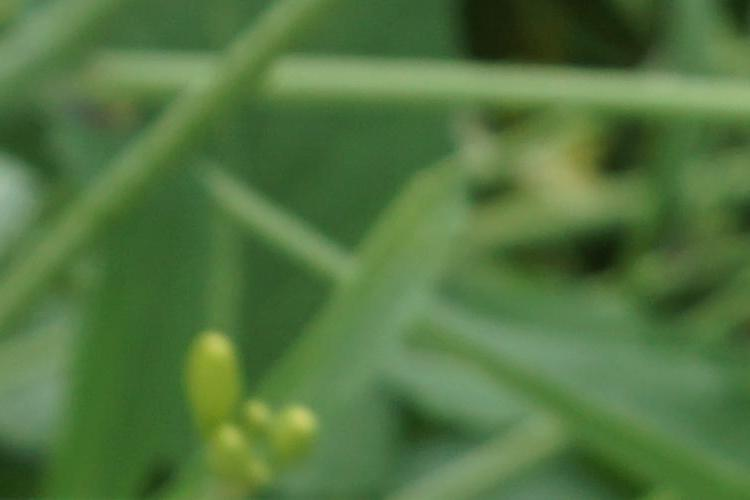bud: (177, 328, 248, 427), (270, 404, 324, 473), (202, 423, 256, 480), (243, 390, 285, 445)
